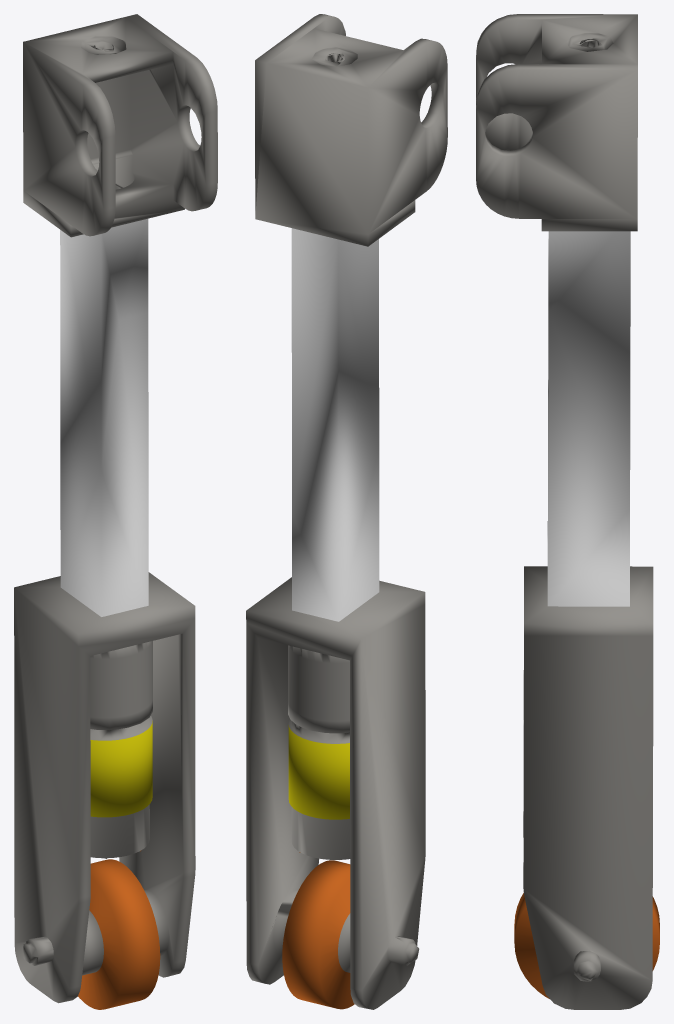
Rendered from hombro.obj.
3 renders of one model, left to right at view 1: azimuth 30°, elevation 25°; view 2: azimuth 150°, elevation 25°; view 3: azimuth 270°, elevation 25°, orthographic.
Size of the model in its own units: 85.63 by 490 by 85.32.
